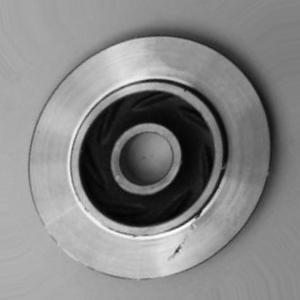defect: (164, 193, 209, 271)
